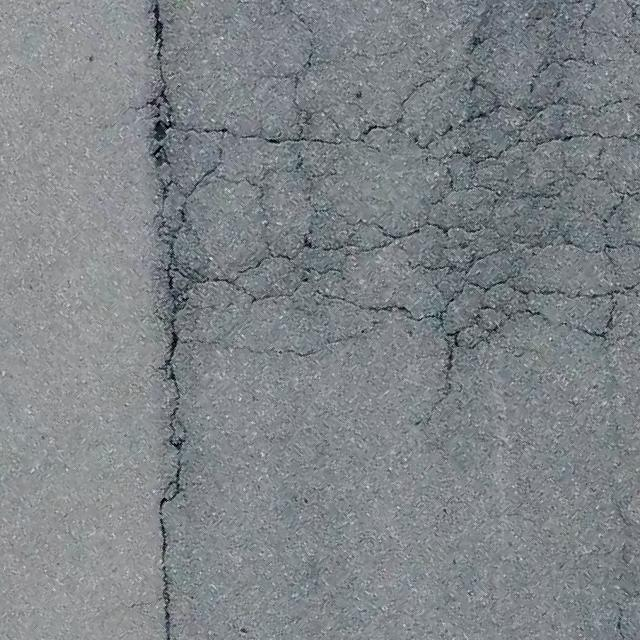GRIETA: (158, 357, 187, 639), (426, 353, 454, 426)
PIEL DE COCODRILO: (142, 0, 639, 366)
